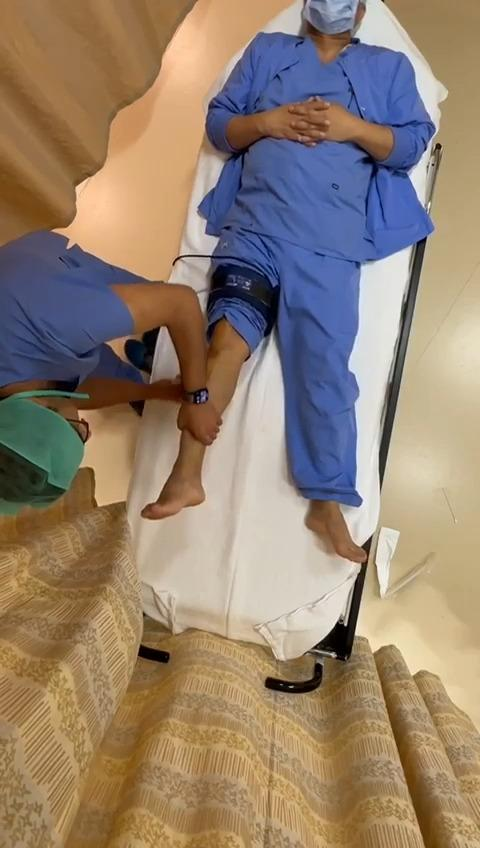patient: (142, 0, 436, 562)
tourniquet: (207, 265, 278, 334)
